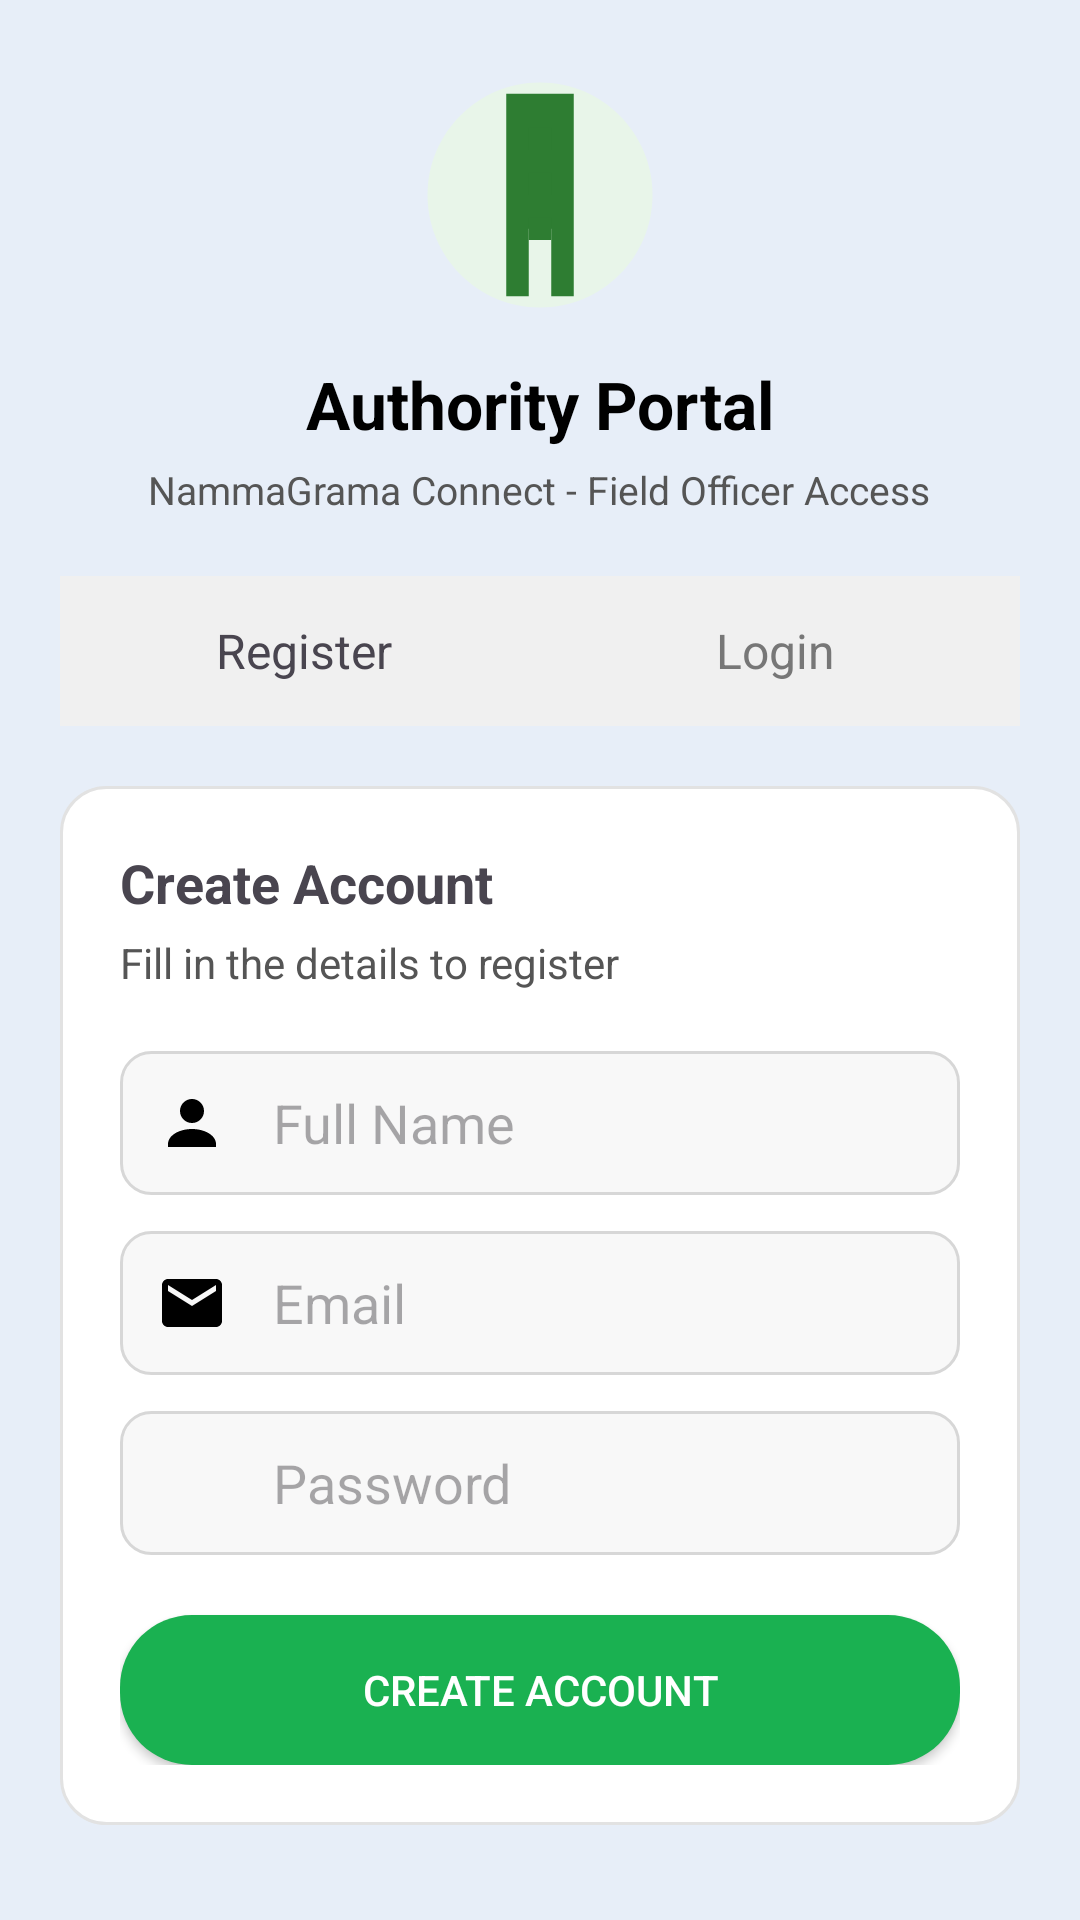

Screen size 1080 x 1920. Icon name, then its box in pixels as (x1, y1, x2, y2):
user: (168, 1099, 216, 1147)
